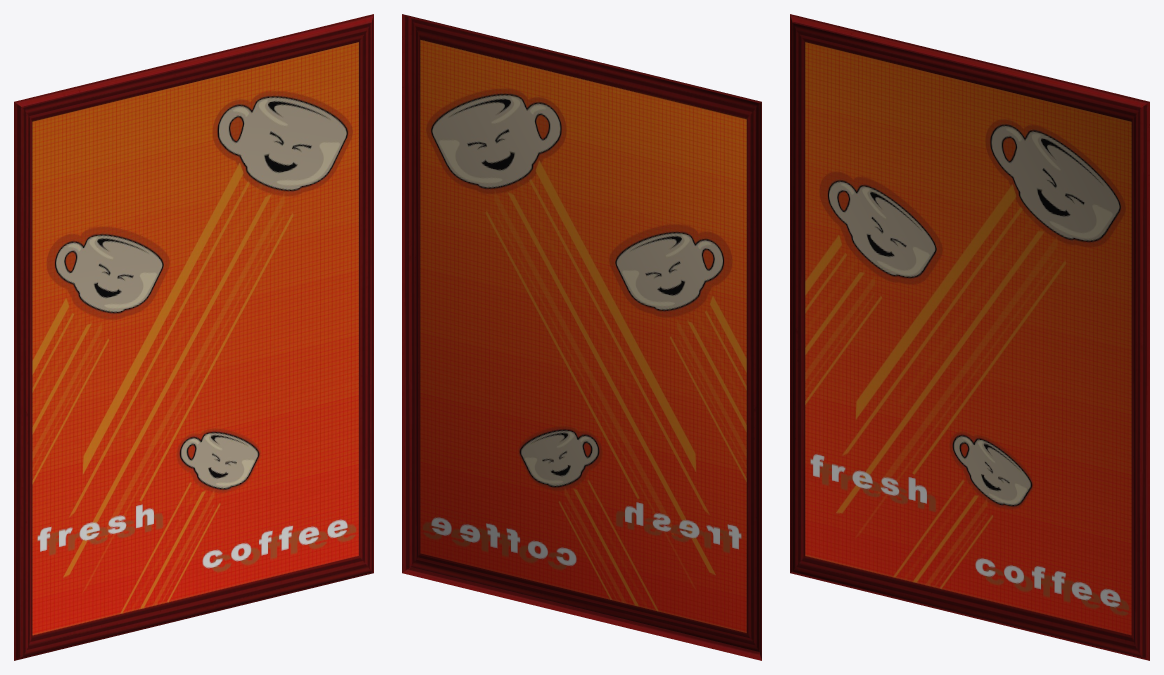
Rendered from SM_Poster_Frame_01.glb.
The picture shows the model from 3 angles, left to right: view 1: azimuth 30°, elevation 25°; view 2: azimuth 150°, elevation 25°; view 3: azimuth 330°, elevation 25°; orthographic projection.
Parts seen in each view (by area): view 1: SM_Poster_Frame_01; view 2: SM_Poster_Frame_01; view 3: SM_Poster_Frame_01.
Part boxes in pixels (bbox=[...]): SM_Poster_Frame_01: bbox=[14, 14, 373, 660]; SM_Poster_Frame_01: bbox=[402, 14, 761, 660]; SM_Poster_Frame_01: bbox=[790, 14, 1149, 660].
Bounding box in the file's own units: 0.9938 × 1.48 × 0.0151.
Materials: 1 (1 with a texture image).
